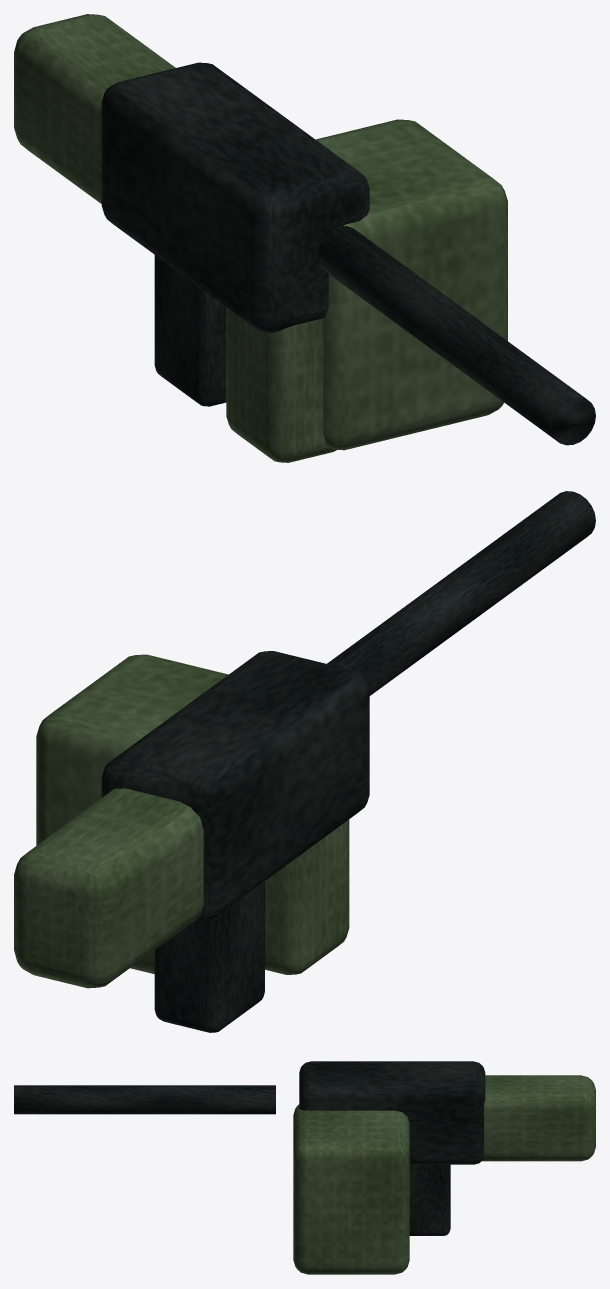
File: weapon_machineGun.glb
The picture shows the model from 3 angles, top to bottom: view 1: azimuth 30°, elevation 25°; view 2: azimuth 150°, elevation 25°; view 3: azimuth 270°, elevation 25°; orthographic projection. The views are drawn at different scales.
Visible parts, largest first — view 1: Receiver.004, Ammo box, Barrel.004, Stock.002, Magazine.004, Grip.002; view 2: Receiver.004, Stock.002, Ammo box, Barrel.004, Grip.002, Magazine.004; view 3: Ammo box, Receiver.004, Stock.002, Barrel.004, Grip.002.
Part boxes in pixels (<box>): Receiver.004: <box>101,62,369,332</box>; Ammo box: <box>316,119,507,450</box>; Barrel.004: <box>317,226,595,445</box>; Stock.002: <box>14,14,175,203</box>; Magazine.004: <box>226,307,336,462</box>; Grip.002: <box>154,255,226,406</box>; Receiver.004: <box>101,651,369,920</box>; Stock.002: <box>14,788,203,988</box>; Ammo box: <box>36,654,228,973</box>; Barrel.004: <box>327,491,595,695</box>; Grip.002: <box>154,881,264,1032</box>; Magazine.004: <box>265,819,349,974</box>; Ammo box: <box>293,1104,409,1274</box>; Receiver.004: <box>299,1061,485,1164</box>; Stock.002: <box>482,1075,595,1161</box>; Barrel.004: <box>14,1085,275,1114</box>; Grip.002: <box>409,1164,450,1235</box>.
Size of the model in its own units: 0.28 by 0.295 by 1.
Materials: 2 (2 with a texture image).
